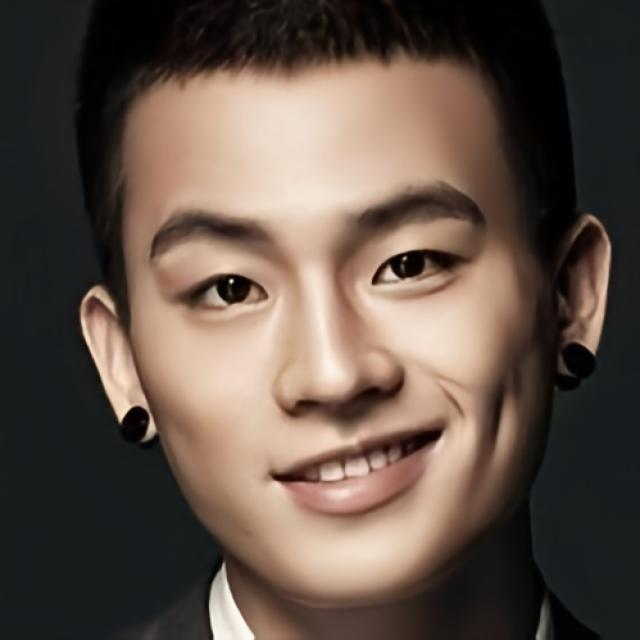content: (124, 42, 560, 606)
